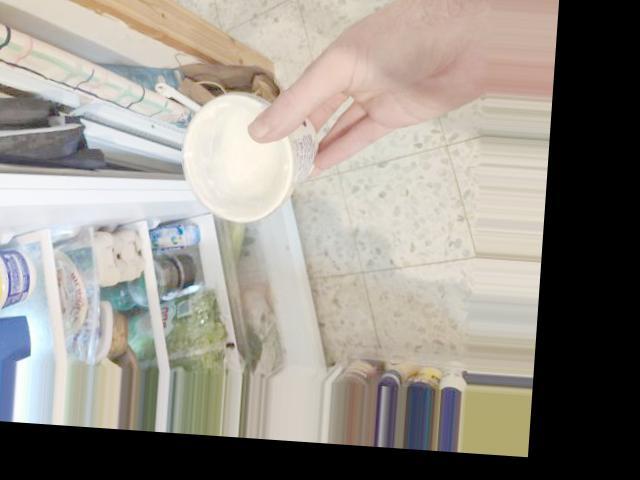cotage: (190, 88, 318, 193)
